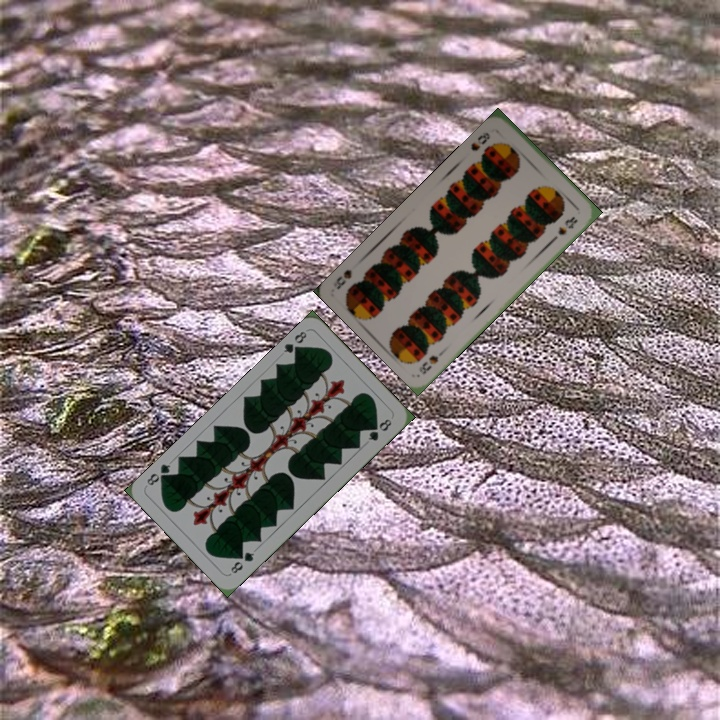G8: (279, 327, 309, 358), (226, 548, 257, 576)
S8: (415, 344, 449, 377), (467, 128, 493, 153)
